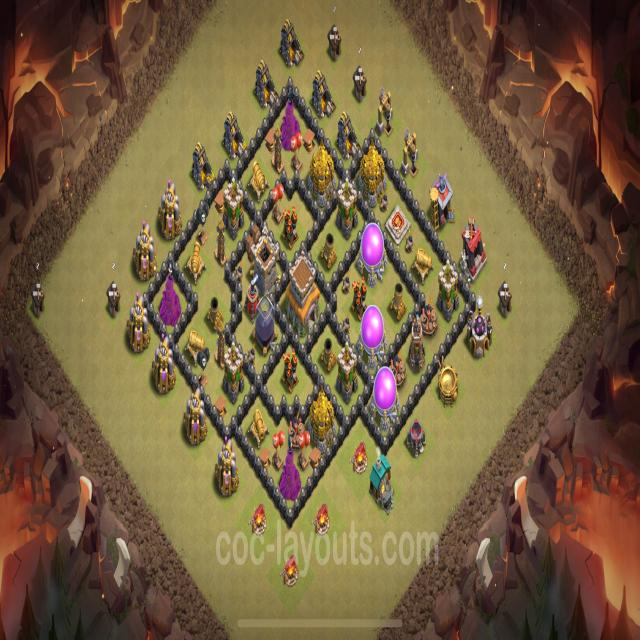air_defense: (278, 345, 300, 396), (350, 278, 370, 324), (280, 202, 298, 249)
air_sweeper: (244, 270, 260, 324)
archer_tower: (335, 178, 361, 239), (436, 259, 459, 320), (222, 342, 244, 404), (336, 342, 358, 402), (224, 179, 244, 240)
army_camp: (250, 498, 268, 538), (312, 500, 331, 537), (351, 436, 367, 476)
barracks: (427, 170, 454, 233)
builders_hut: (105, 278, 122, 319), (325, 23, 342, 64), (351, 63, 367, 103), (497, 280, 512, 319), (32, 282, 46, 318)
cannon: (248, 159, 270, 200), (413, 244, 432, 286), (248, 407, 268, 446), (185, 328, 207, 363), (186, 241, 204, 279)
clan_castle: (250, 227, 280, 296)
dark_barracks: (460, 213, 487, 282)
dark_elixir_drill: (400, 126, 422, 184), (375, 85, 397, 143)
dark_elixir_storage: (253, 293, 278, 356)
dark_spell_factory: (406, 417, 428, 460)
elixir_collector: (130, 219, 156, 284), (181, 386, 208, 448), (151, 334, 177, 397), (214, 435, 240, 498), (158, 178, 182, 241), (127, 293, 150, 356)
elixir_storage: (372, 363, 400, 432), (358, 305, 387, 368), (359, 222, 387, 284)
gold_mine: (277, 17, 305, 70), (309, 68, 334, 124), (188, 141, 216, 190), (252, 60, 279, 109), (335, 108, 359, 162), (221, 112, 247, 160)
gold_storage: (358, 142, 388, 207), (307, 141, 336, 206), (308, 387, 336, 454)
laboratory: (466, 296, 492, 362)
mortar: (388, 282, 408, 325), (319, 230, 339, 271), (319, 334, 337, 374), (205, 293, 223, 332)
spell_factory: (436, 359, 459, 406)
town_hall: (283, 249, 321, 337)
wizard_tower: (159, 272, 182, 326), (279, 444, 301, 500), (280, 96, 301, 150)
